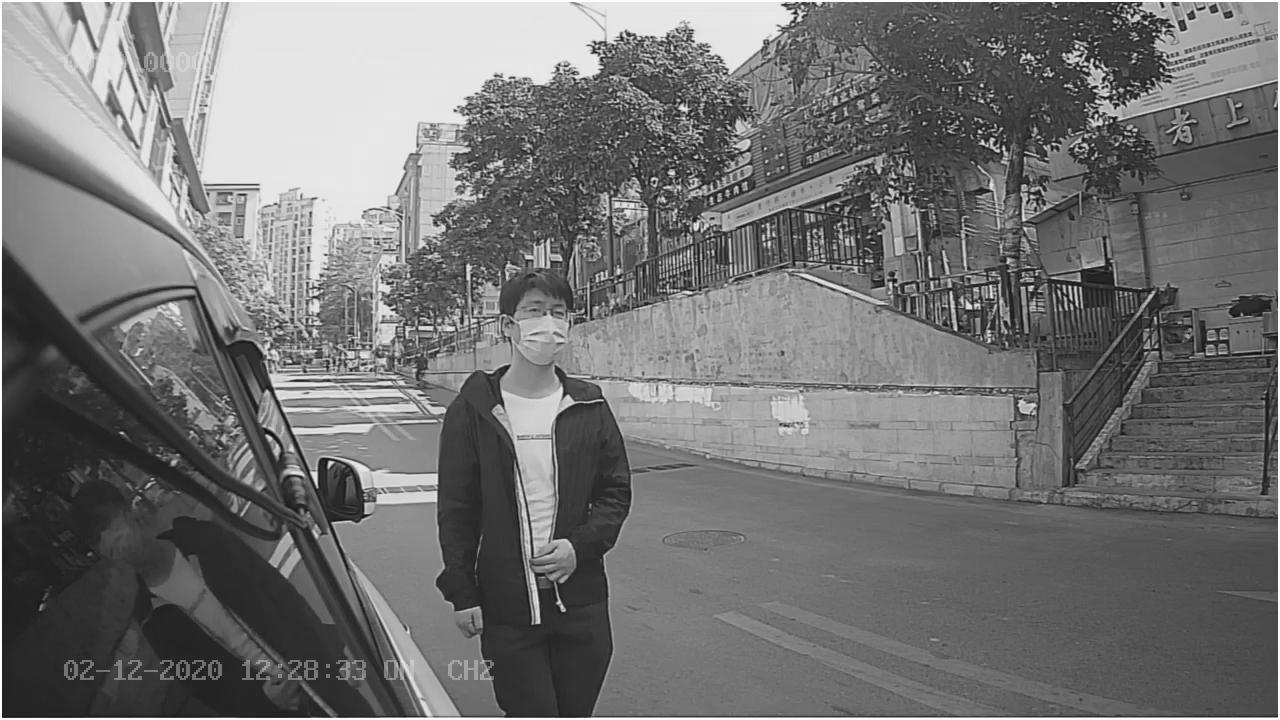person: (433, 256, 635, 633)
